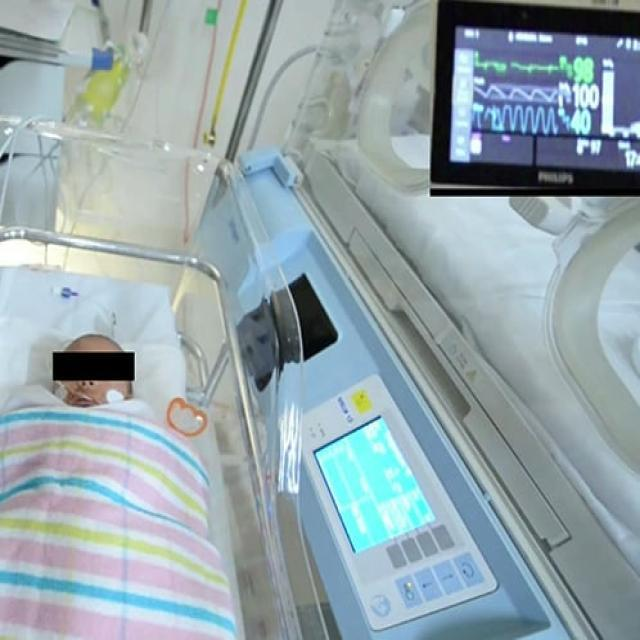Monitor: (426, 0, 640, 212)
bed: (0, 223, 254, 638)
